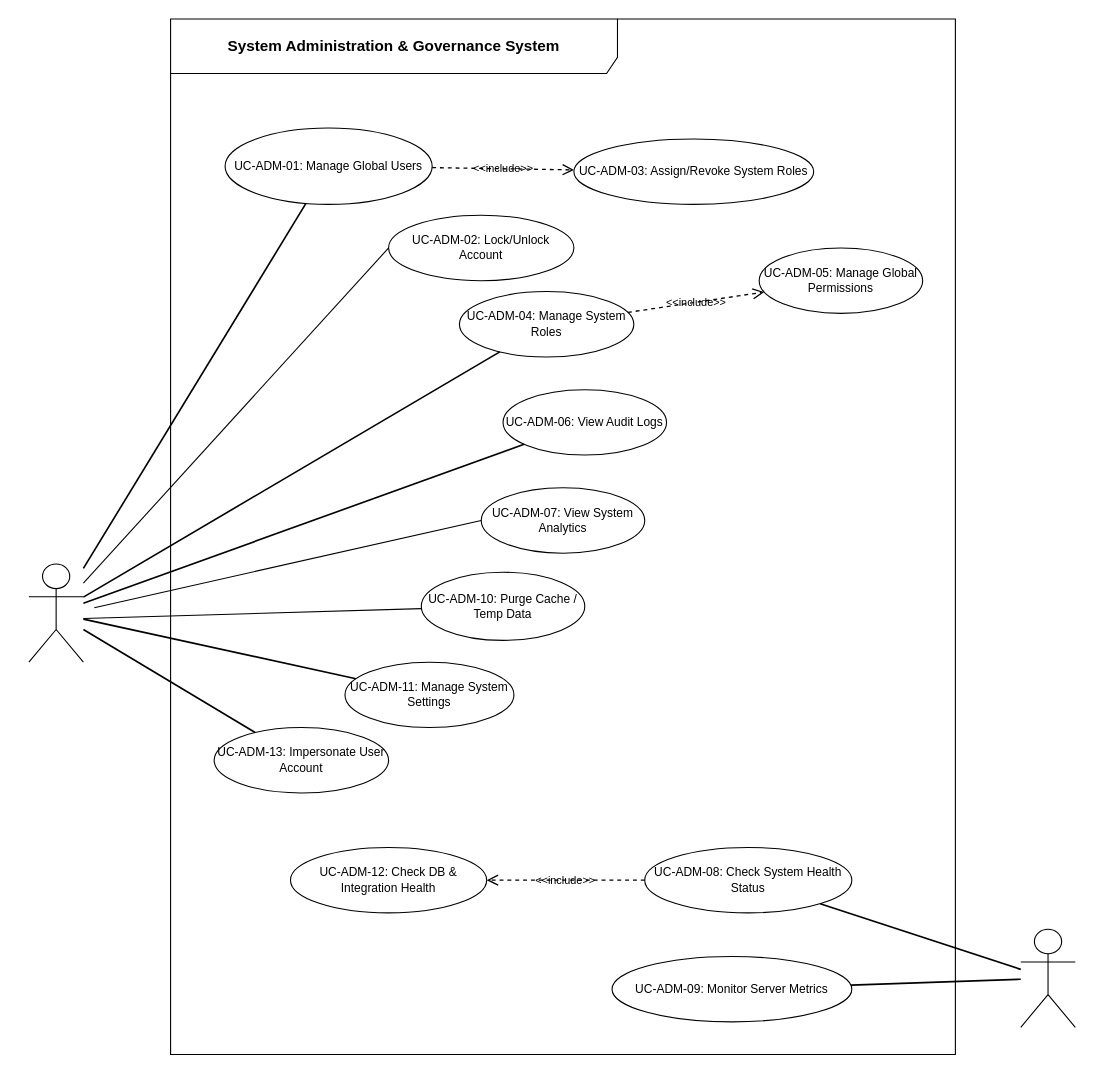
The diagram is 1112 pixels wide and 1074 high, and some of its shapes have lost their labels. The centre of each missing label's shape, as x and y in pixels:
"Super Admin" belongs at (55,612).
"System Monitor" belongs at (1047,977).
